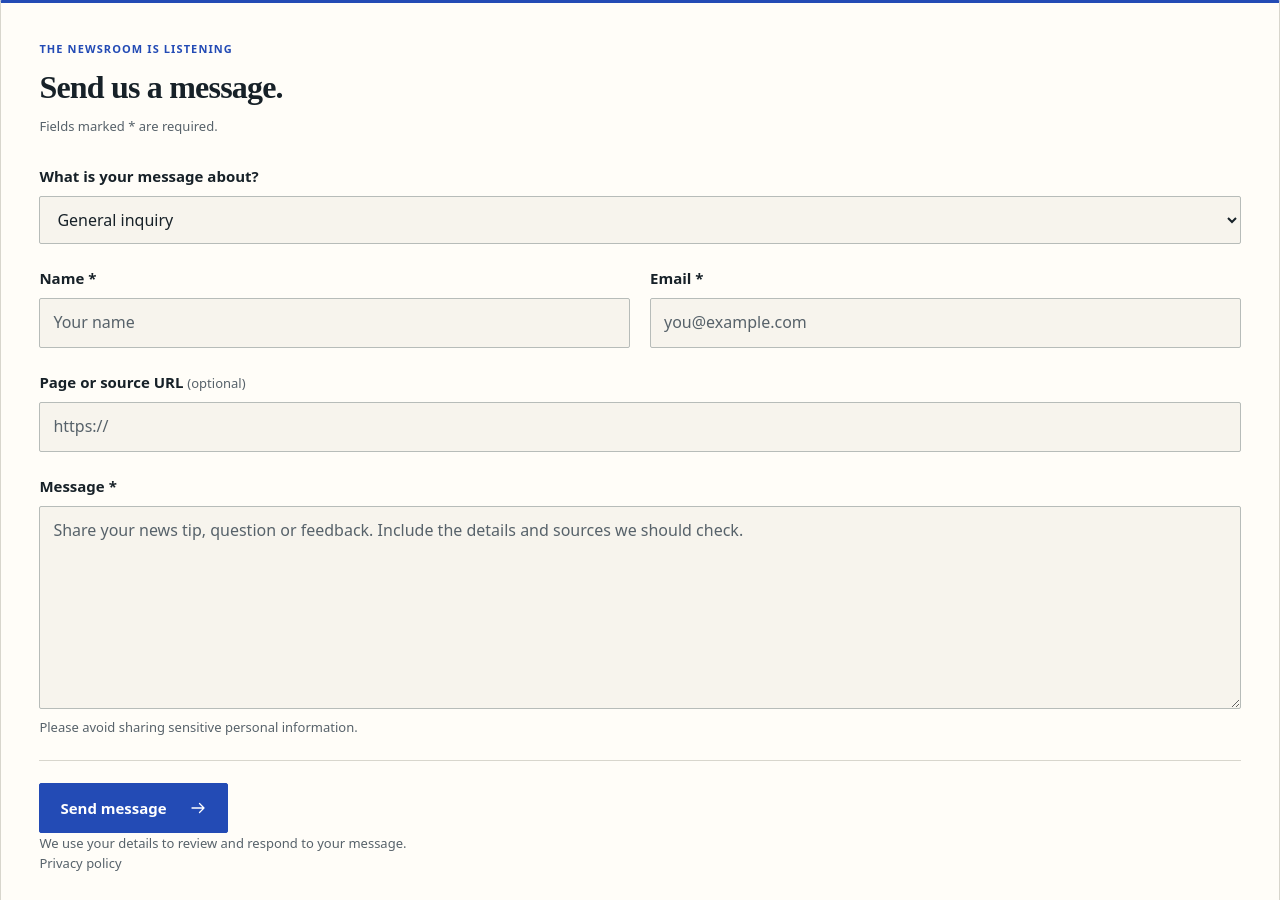
contact reader journeys › never claims success for an HTTP 200 without confirmation
This screenshot has width=1280, height=900.
Step 1. Type "Local Reader" into the field labelled "Name *" → (335, 323), box [39,298,630,348]
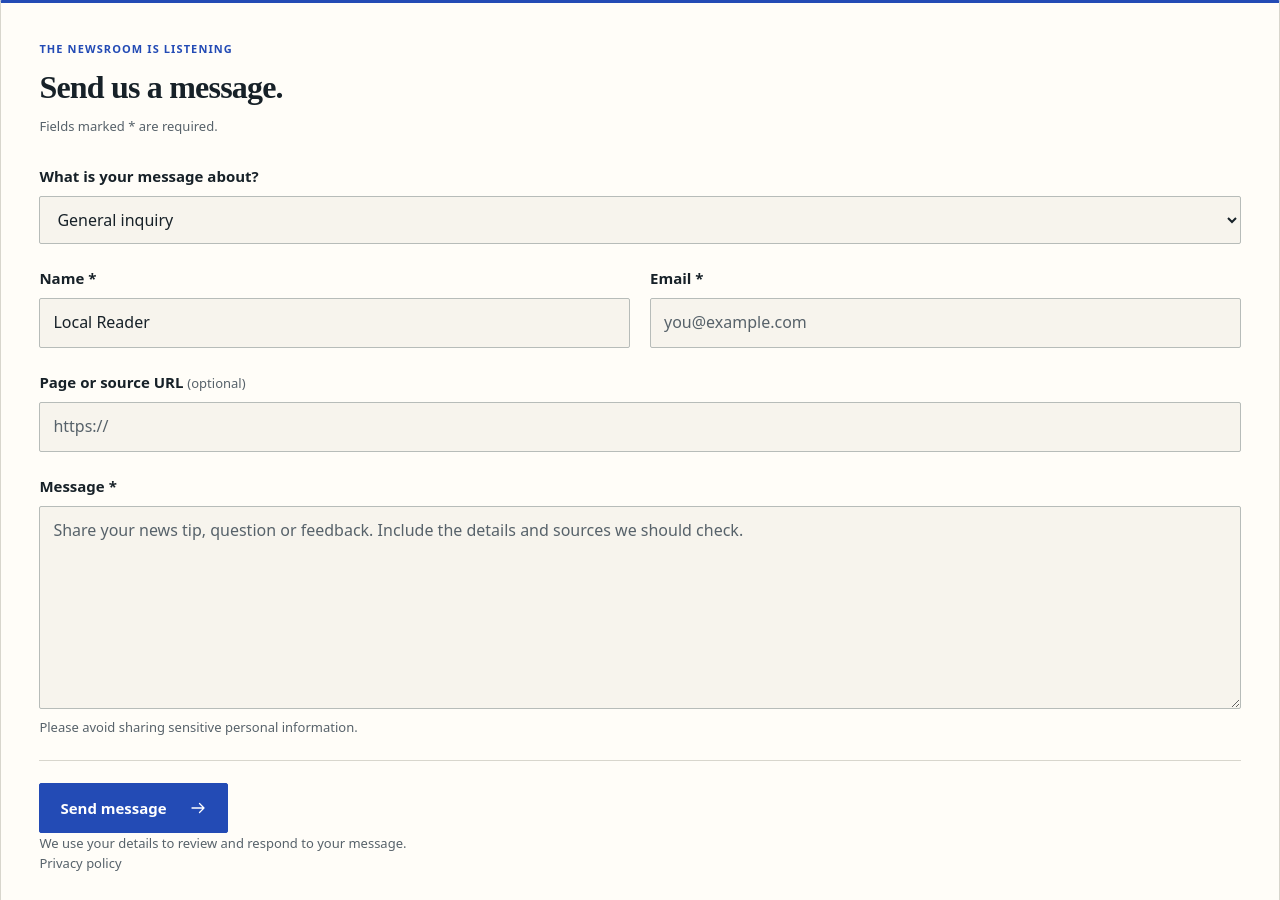
Step 2. Type " reader@example.com " into the field labelled "Email *" → (945, 323), box [650,298,1241,348]
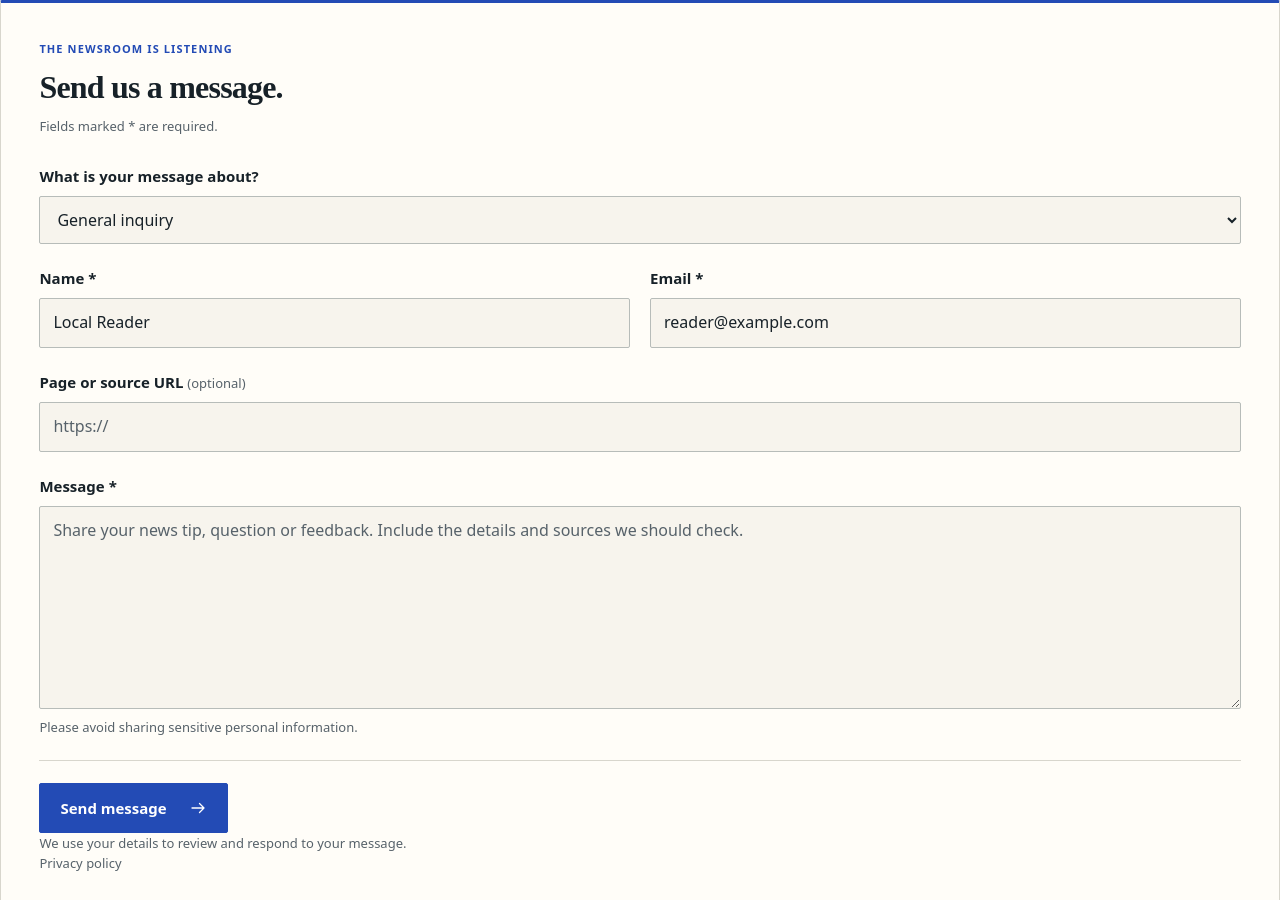
Step 3. Replace the text in the text box labelled "Message *" with "Please review this public source and the date listed." → (640, 607), box [39,506,1241,709]
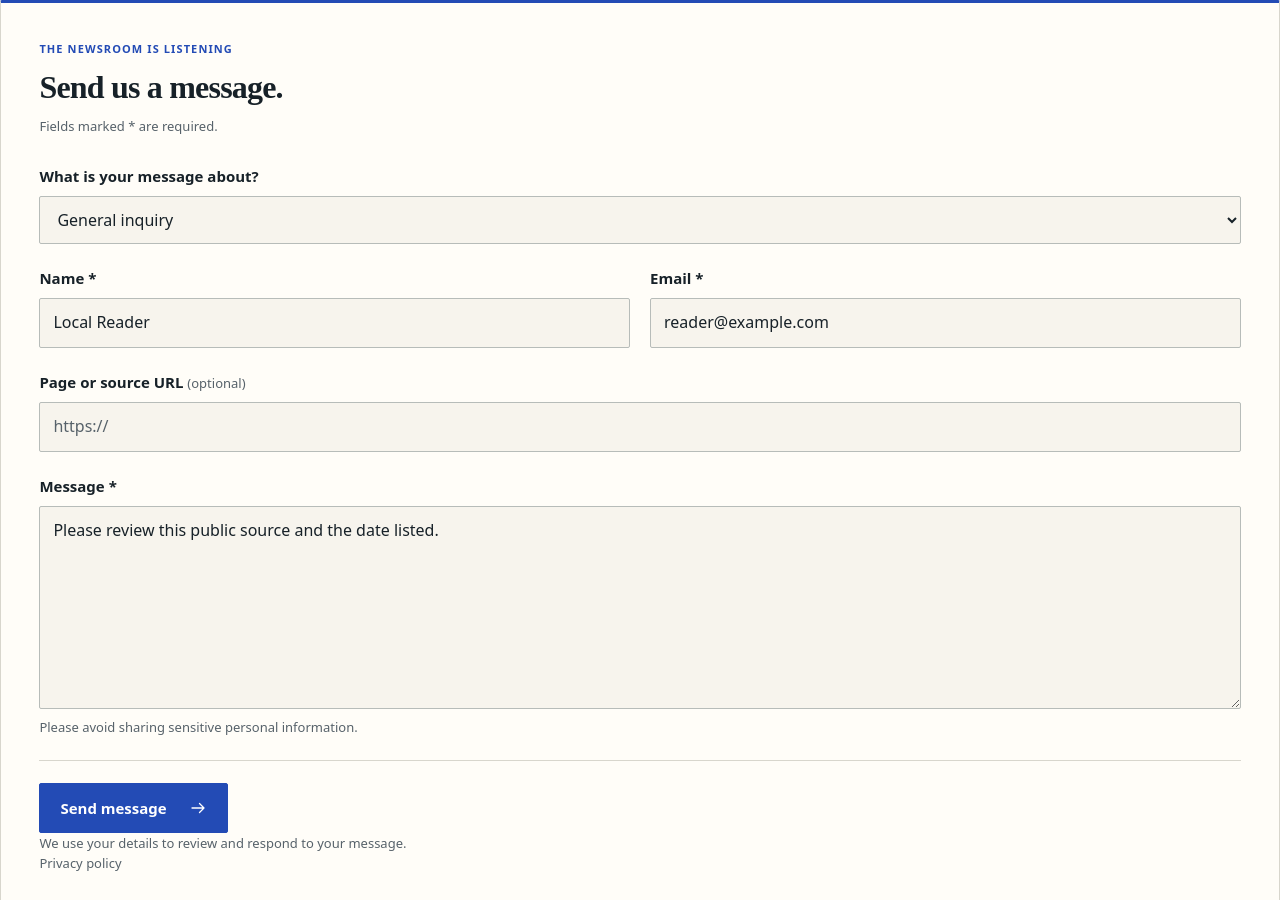
Step 4. Submit the form named "Send message"
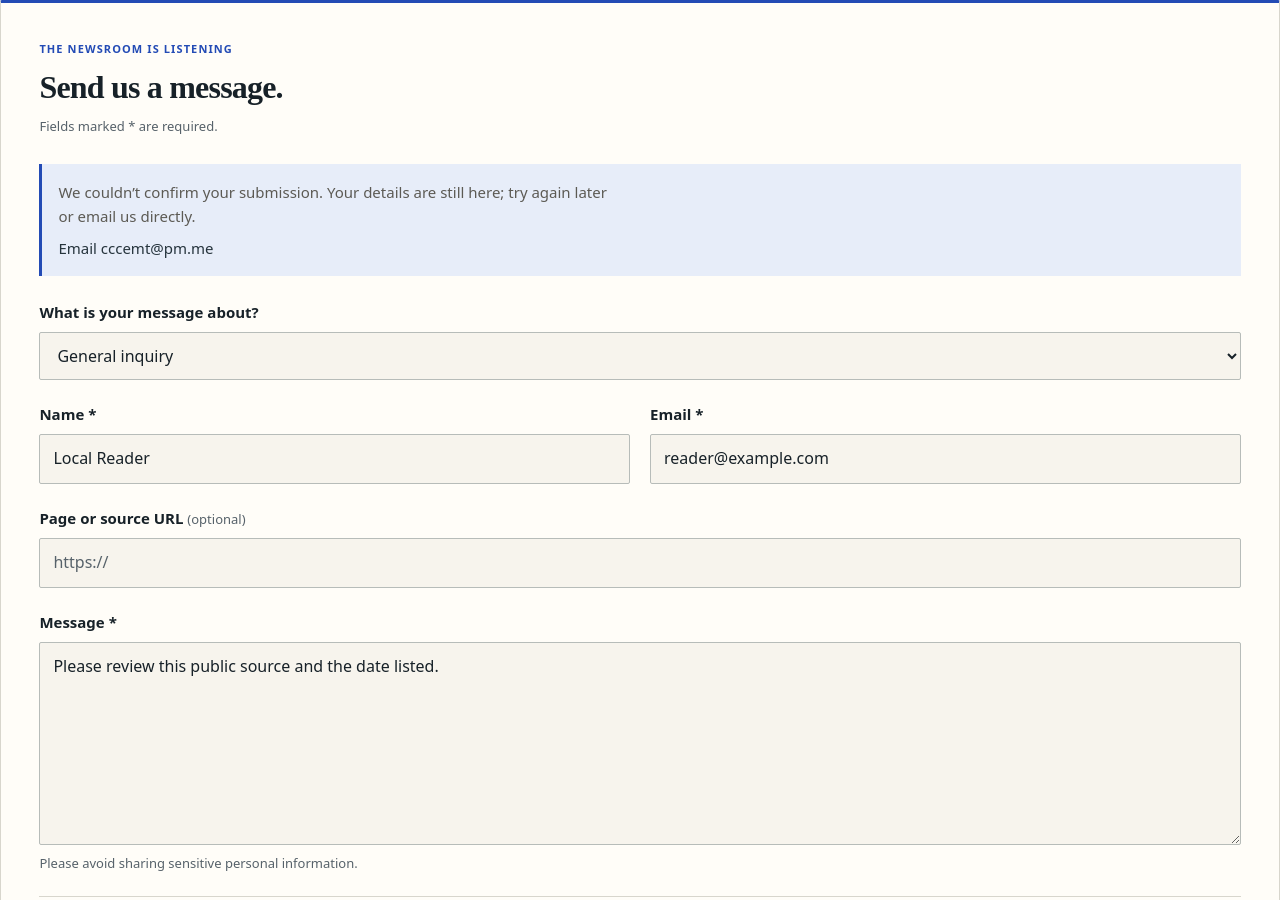
Expected: the text "We couldn’t confirm your submission" is shown, [58,182,607,226]
